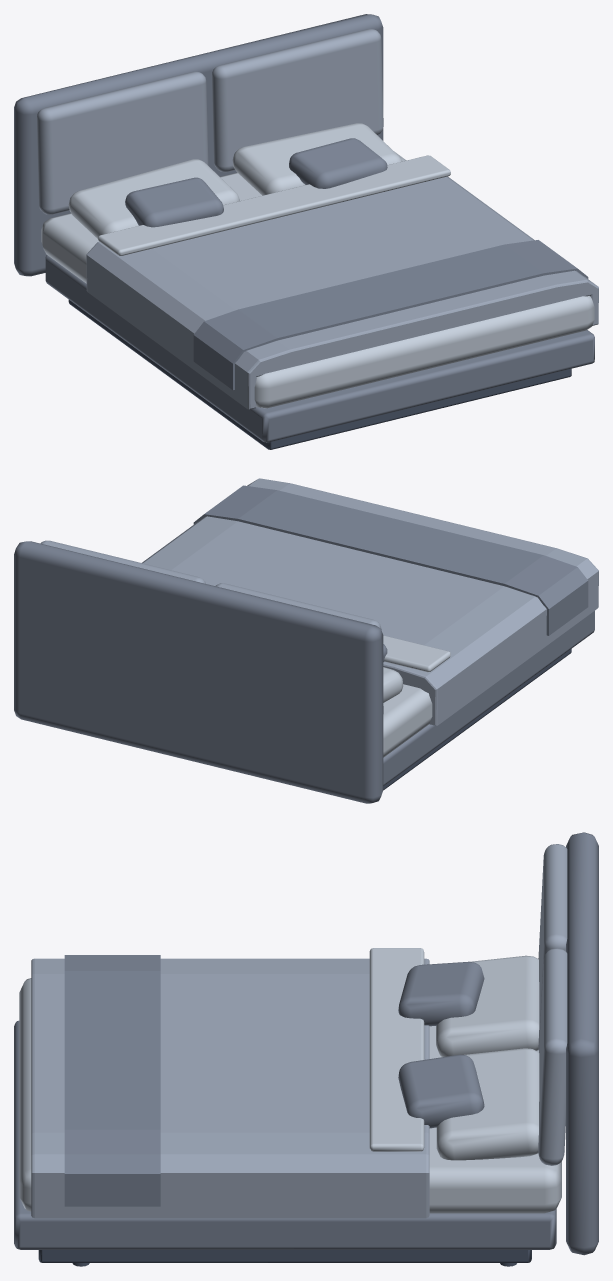
File: bed-lite.glb
3 views of the same model, one above another, from view 1: azimuth 30°, elevation 25°; view 2: azimuth 150°, elevation 25°; view 3: azimuth 270°, elevation 25° (orthographic). The views are drawn at different scales.
Visible parts, largest first — view 1: bed; view 2: bed; view 3: bed.
Part boxes in pixels (x1=…): bed: x1=14, y1=14, x2=598, y2=449; bed: x1=14, y1=478, x2=598, y2=803; bed: x1=14, y1=832, x2=598, y2=1266.
Bounding box in the file's own units: 1.92 × 1.02 × 2.18.
